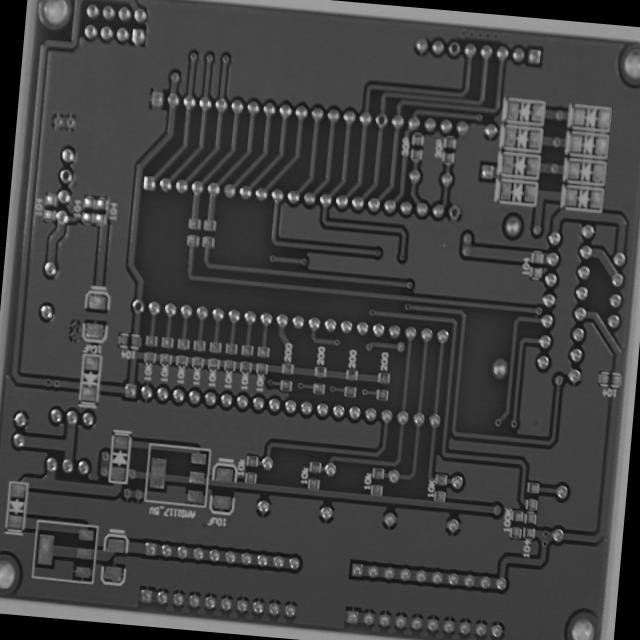missing_hole: (56, 166, 76, 187), (446, 202, 463, 225), (372, 110, 390, 130), (130, 296, 146, 316), (446, 38, 462, 58)
